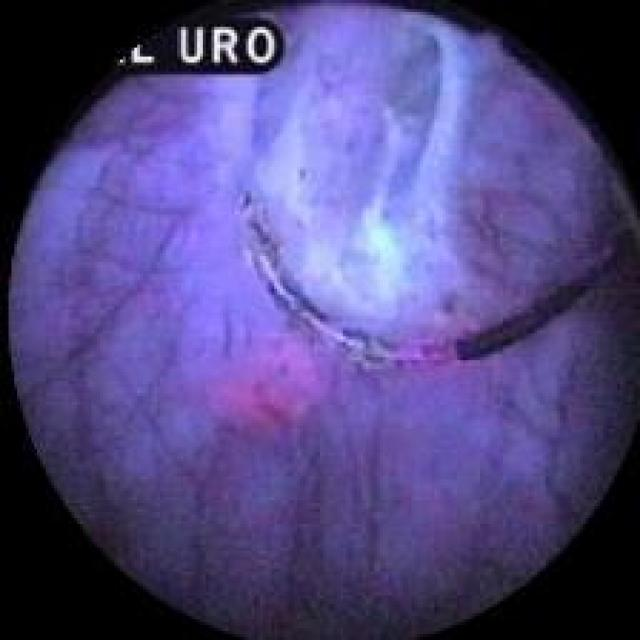color misalignment: (89, 17, 300, 74)
instrument: (234, 17, 622, 360)
